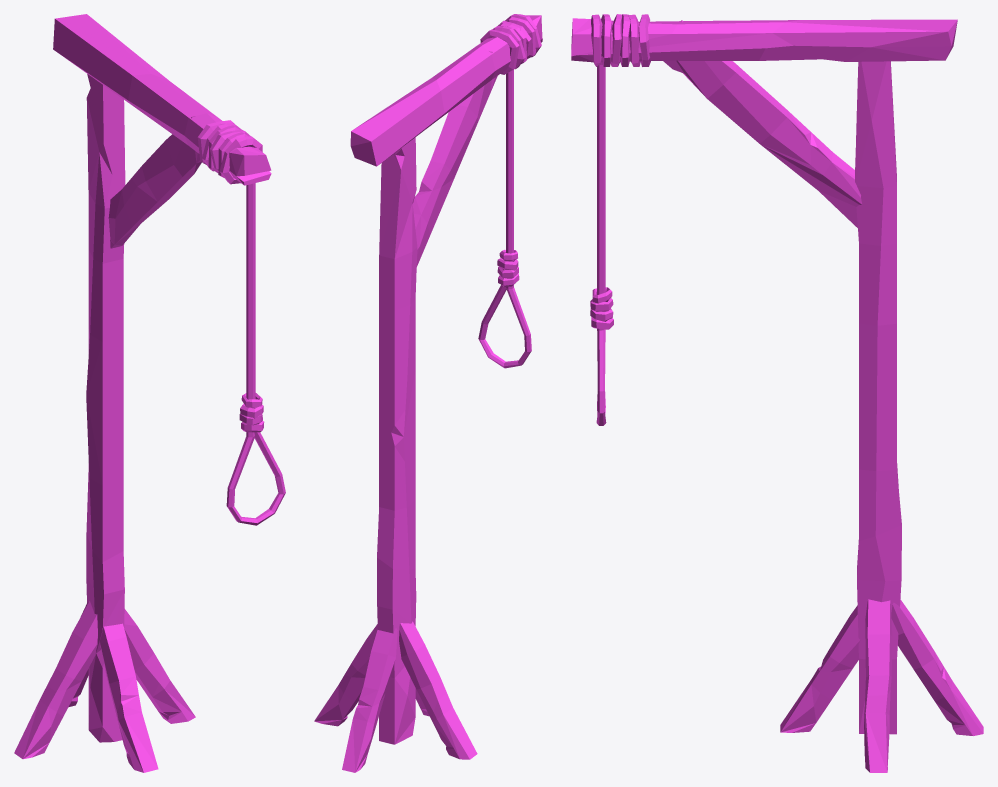
The model's file is SM_Gibbet_Fantasy.fbx.
3 views of the same model, side by side, from view 1: azimuth 30°, elevation 25°; view 2: azimuth 150°, elevation 25°; view 3: azimuth 270°, elevation 25° (orthographic). The views are drawn at different scales.
Visible parts, largest first — view 1: SM_Gibbet_Fantasy; view 2: SM_Gibbet_Fantasy; view 3: SM_Gibbet_Fantasy.
Boxes of the visible parts, bbox=[...] form: SM_Gibbet_Fantasy: bbox=[14, 14, 285, 772]; SM_Gibbet_Fantasy: bbox=[314, 14, 542, 772]; SM_Gibbet_Fantasy: bbox=[571, 14, 983, 772].
Size of the model in its own units: 0.8394 by 3.23 by 1.7.
